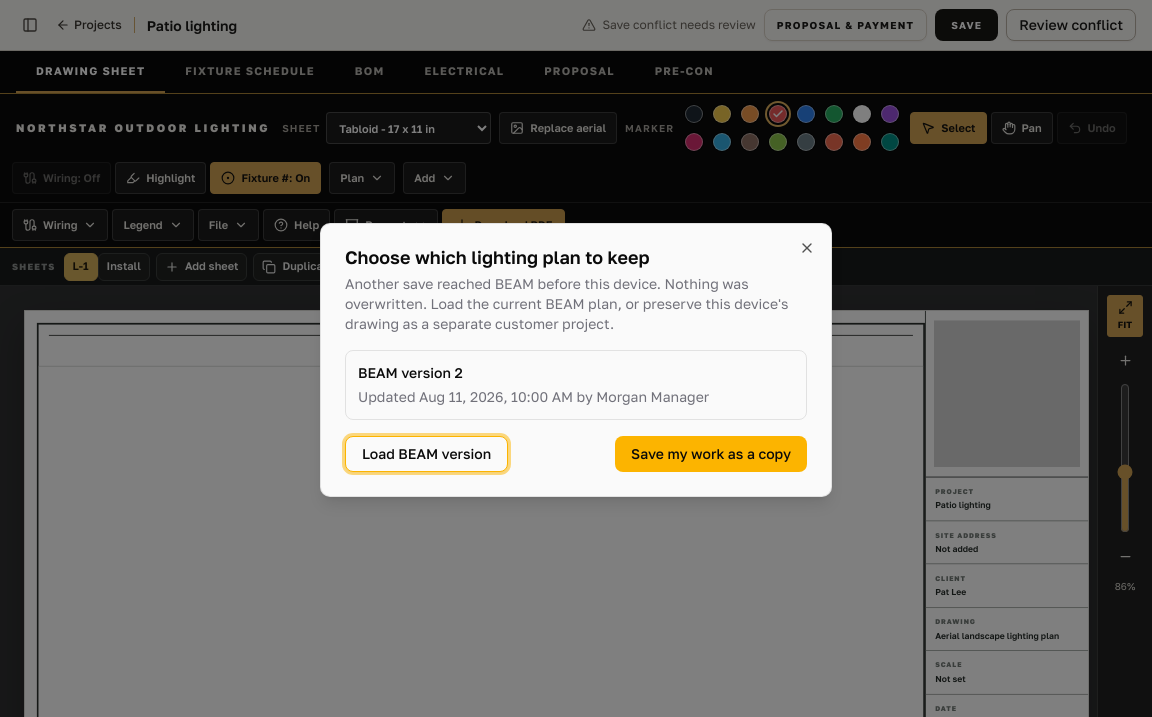
Test: LightingProjectEditor › opens an accessible conflict dialog for a stale device draft and loads BEAM safely
This screenshot has width=1152, height=717.
expect the dialog "Choose which lighting plan to keep" is shown: met, box [320, 223, 832, 497]
expect the button "Save my work as a copy" is shown: met, box [615, 436, 807, 472]
Click the button "Load BEAM version": {"x": 427, "y": 454} [345, 436, 508, 472]
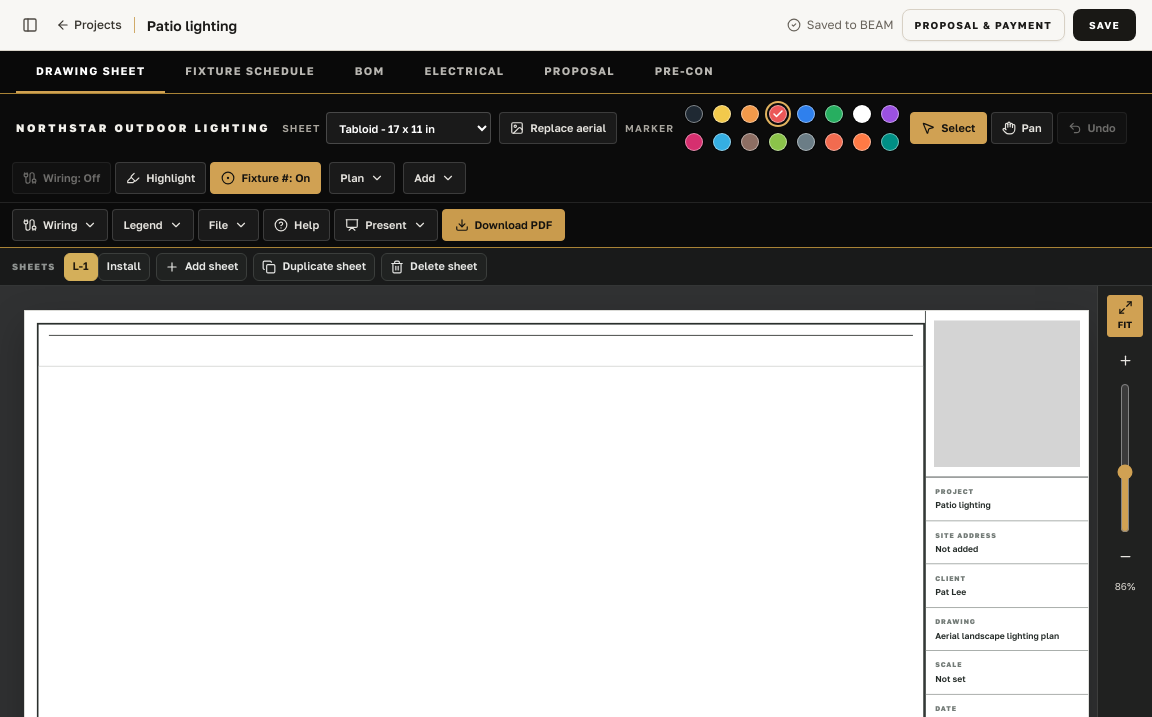
expect the heading "Choose which lighting plan to keep" is gone: met
